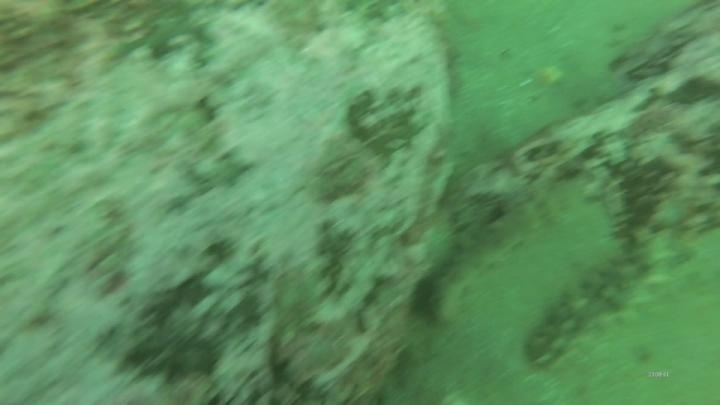holothurian: (521, 218, 683, 370), (408, 179, 564, 328)
